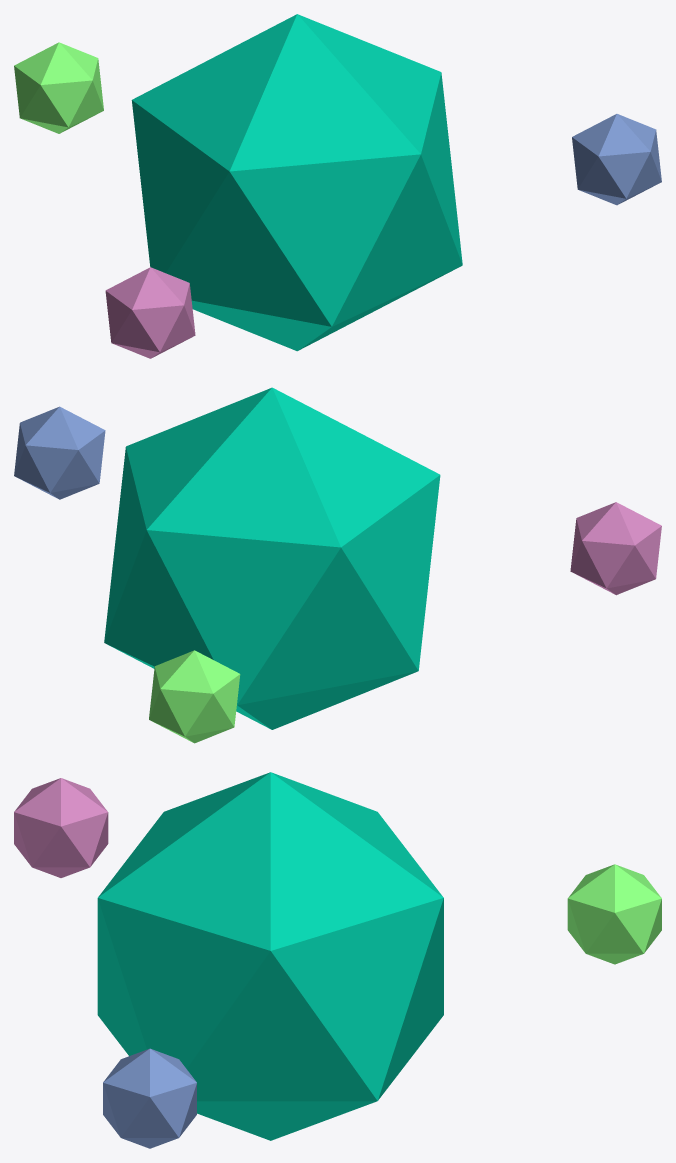
Rendered from PickUpModel.fbx.
3 views of the same model, one above another, from view 1: azimuth 30°, elevation 25°; view 2: azimuth 150°, elevation 25°; view 3: azimuth 270°, elevation 25° (orthographic). The views are drawn at different scales.
Visible parts, largest first — view 1: Icosphere, Icosphere.001, Icosphere.002, Icosphere.003; view 2: Icosphere, Icosphere.001, Icosphere.002, Icosphere.003; view 3: Icosphere, Icosphere.003, Icosphere.002, Icosphere.001.
Boxes of the visible parts, bbox=[...] form: Icosphere: bbox=[131, 14, 462, 351]; Icosphere.001: bbox=[572, 114, 661, 205]; Icosphere.002: bbox=[105, 267, 195, 358]; Icosphere.003: bbox=[14, 42, 103, 133]; Icosphere: bbox=[104, 387, 440, 729]; Icosphere.001: bbox=[14, 406, 105, 499]; Icosphere.002: bbox=[570, 502, 661, 595]; Icosphere.003: bbox=[149, 650, 240, 743]; Icosphere: bbox=[97, 772, 443, 1140]; Icosphere.003: bbox=[567, 864, 661, 964]; Icosphere.002: bbox=[14, 778, 108, 877]; Icosphere.001: bbox=[103, 1048, 196, 1148].
Size of the model in its own units: 349 by 192 by 306.
